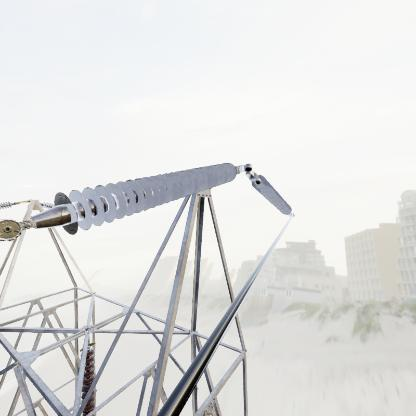insulator: (50, 161, 242, 239), (246, 163, 297, 220)
